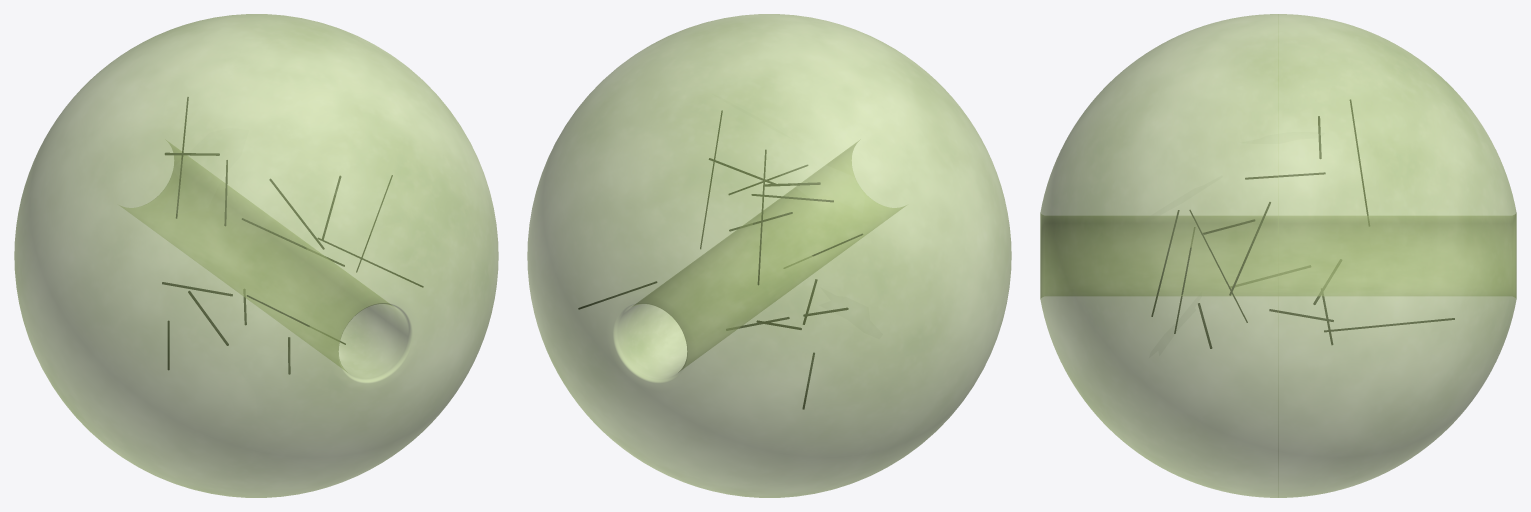
File: prehnite-6mm.glb
The picture shows the model from 3 angles, left to right: view 1: azimuth 30°, elevation 25°; view 2: azimuth 150°, elevation 25°; view 3: azimuth 270°, elevation 25°; orthographic projection.
Parts seen in each view (by area): view 1: prehnite.001, prehnite_WEB_needles_14; view 2: prehnite.001, prehnite_WEB_needles_14; view 3: prehnite.001, prehnite_WEB_needles_14.
Part boxes in pixels (x1,y1,x2,y2): prehnite.001: (14, 14, 498, 497); prehnite_WEB_needles_14: (162, 97, 423, 374); prehnite.001: (527, 14, 1011, 497); prehnite_WEB_needles_14: (578, 110, 862, 409); prehnite.001: (1040, 14, 1516, 497); prehnite_WEB_needles_14: (1151, 99, 1454, 348).
Size of the model in its own units: 0.006 by 0.006 by 0.0059.
3 materials, 1 textured.
